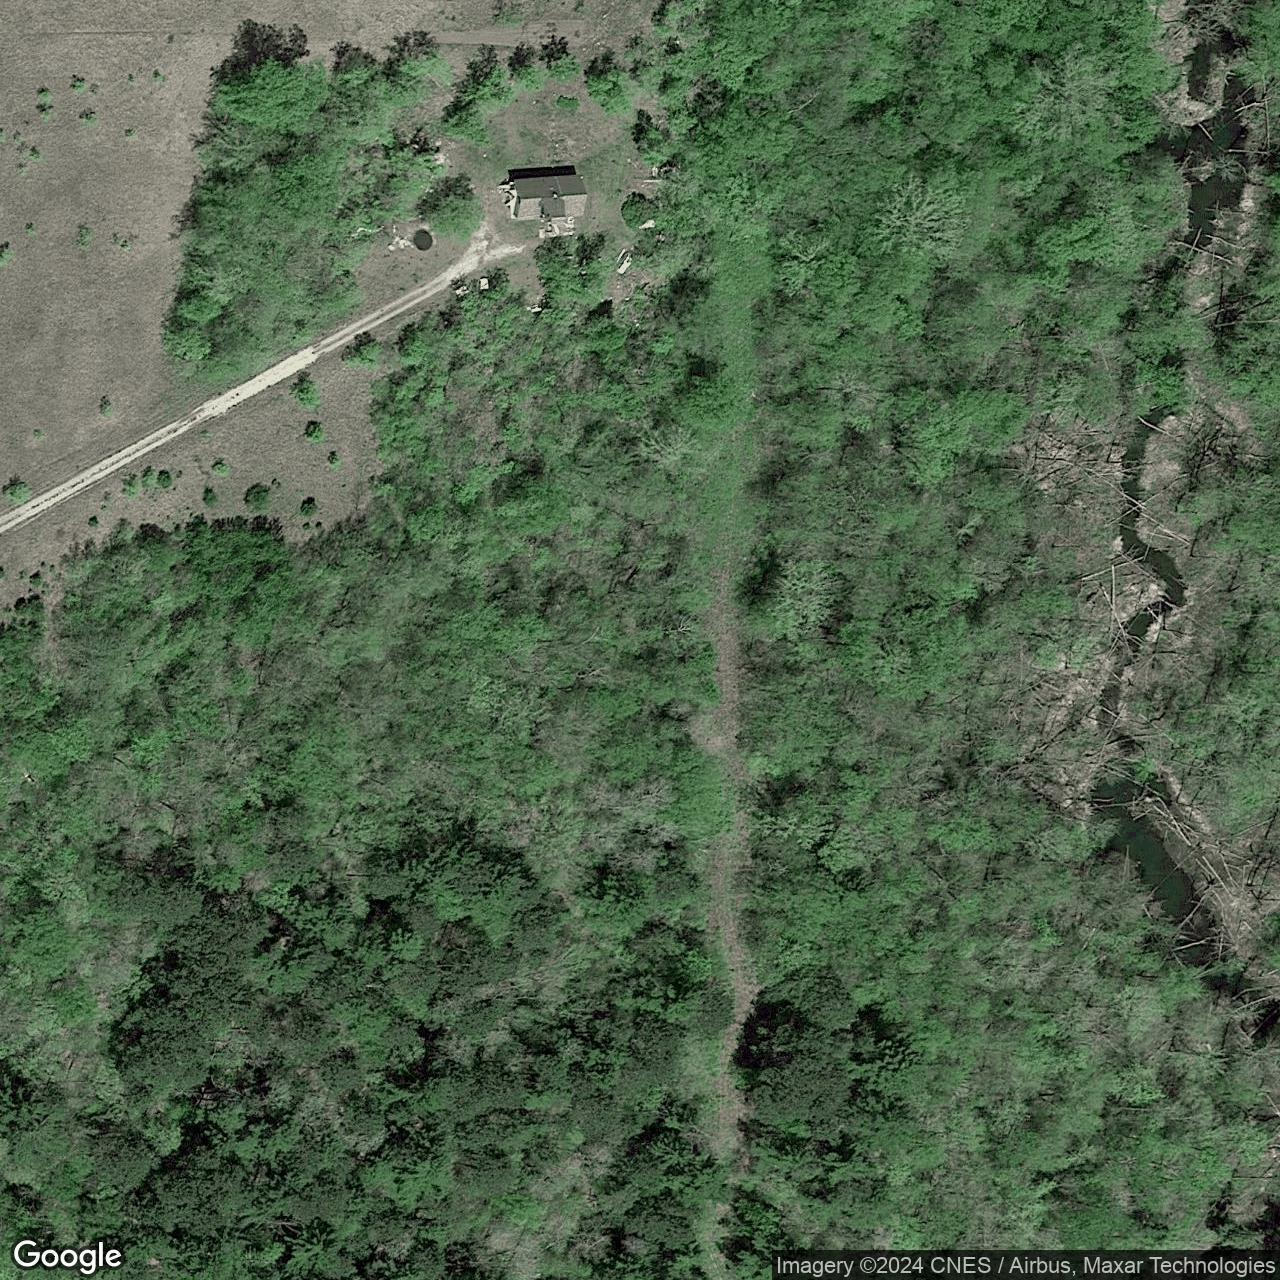House: (510, 175, 588, 222)
